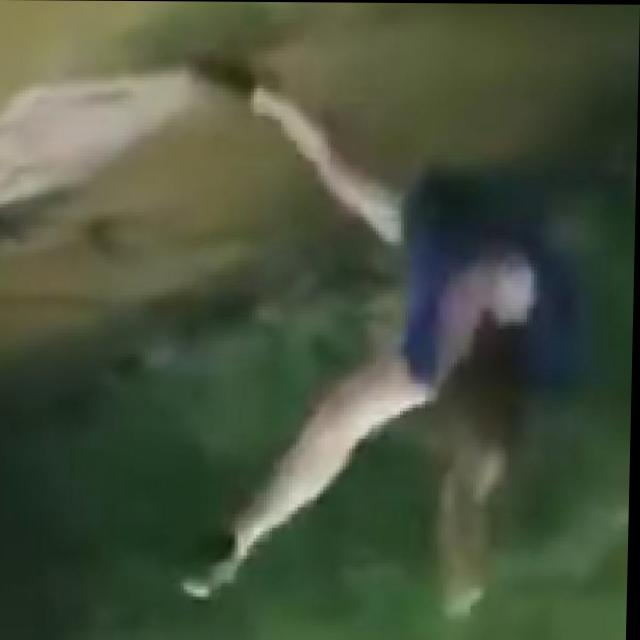fall: (165, 47, 589, 602)
